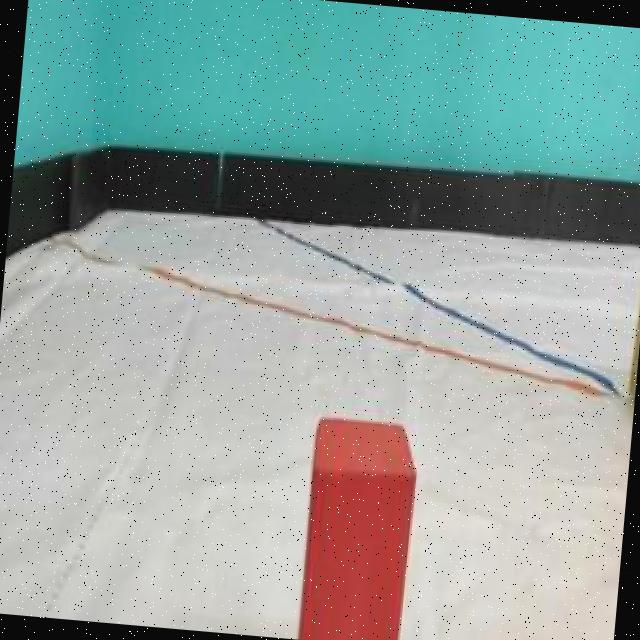redbox: (294, 415, 419, 640)
